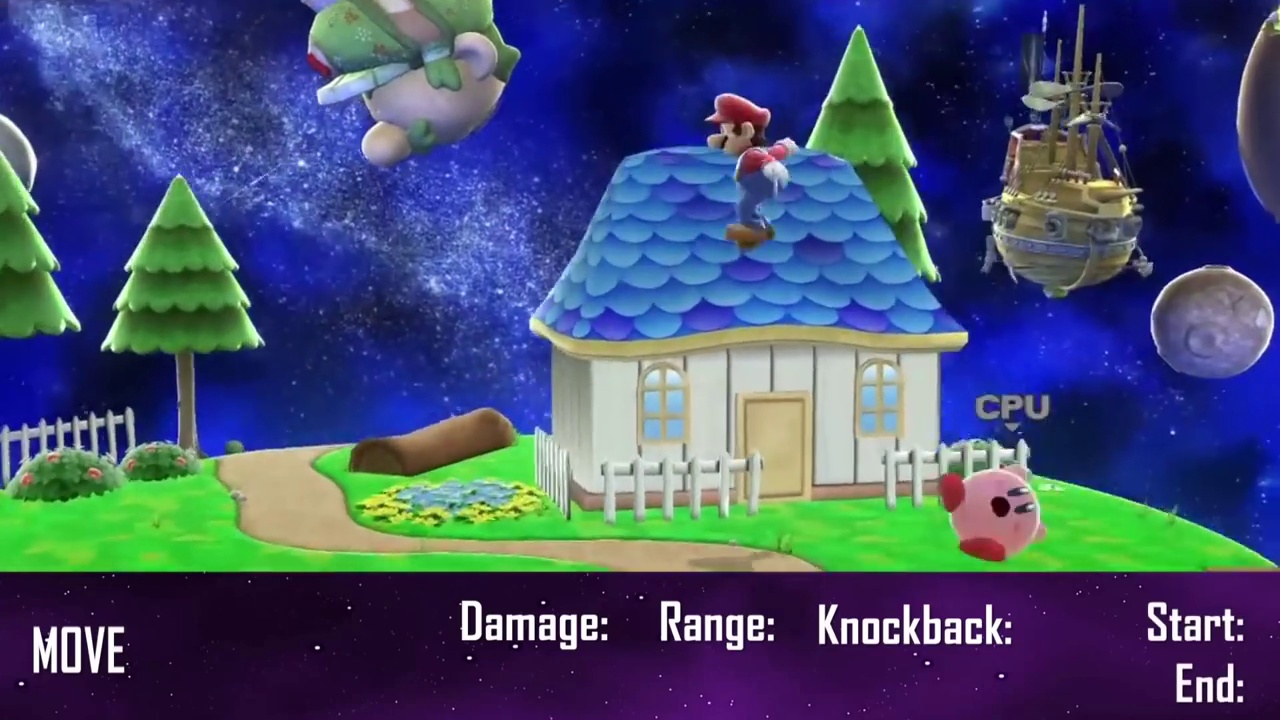Mario: (707, 95, 796, 251)
